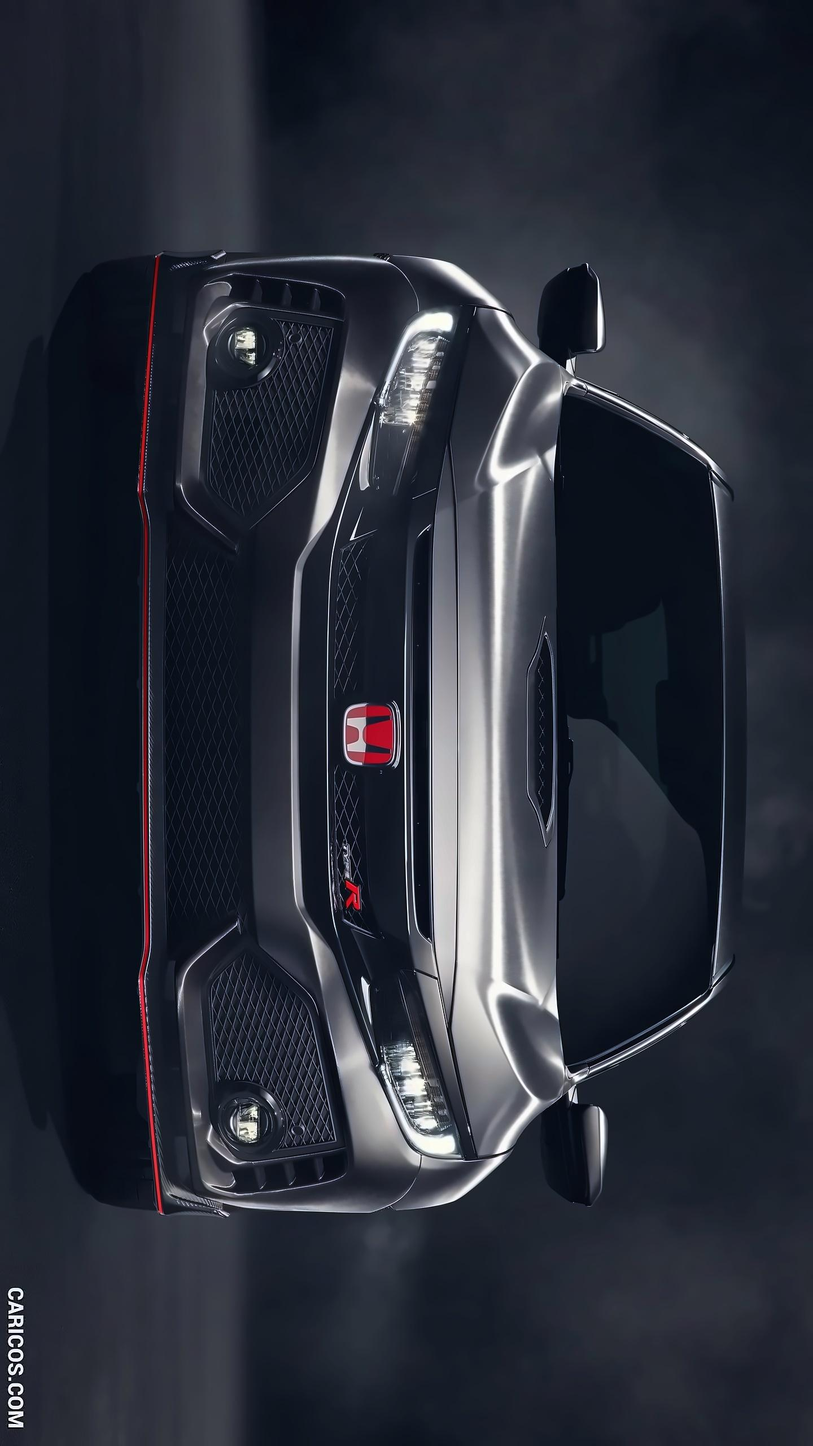Car hood: (427, 298, 568, 1166)
Front bumper: (124, 236, 427, 1226)
Headlight - -L-: (357, 953, 477, 1168)
Headlight - -R-: (352, 296, 469, 520)
Side mirror - -L-: (531, 1083, 624, 1216)
Side mirror - -R-: (523, 243, 616, 385)
